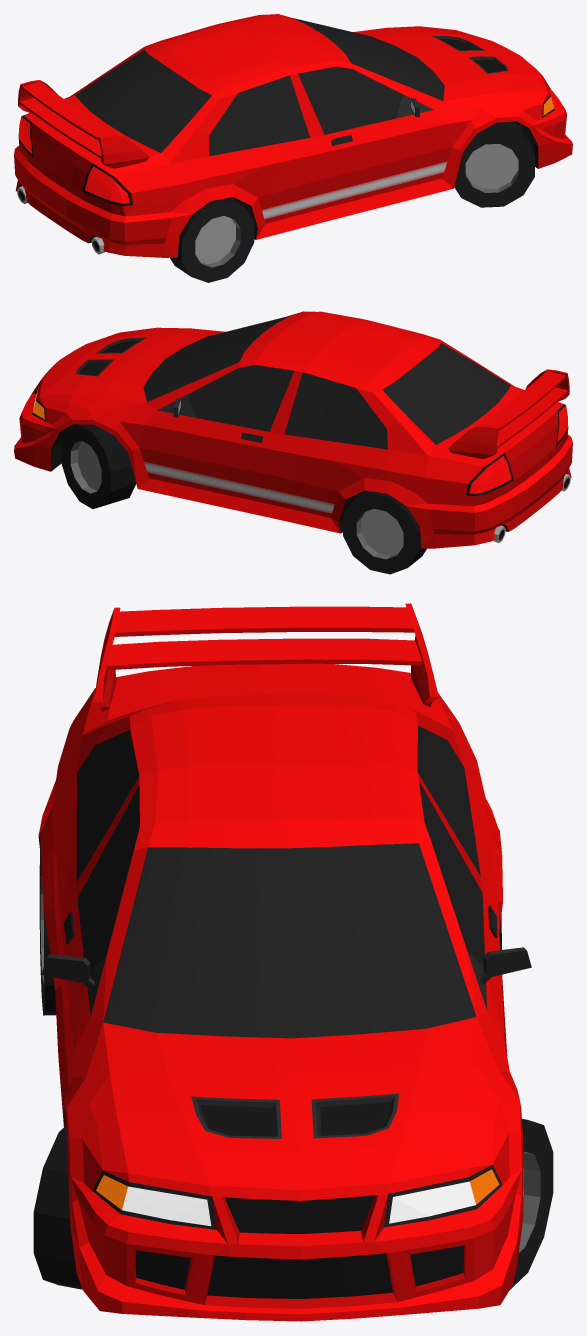
File: Car_106.glb
3 renders of one model, top to bottom at view 1: azimuth 30°, elevation 25°; view 2: azimuth 150°, elevation 25°; view 3: azimuth 270°, elevation 25°, orthographic. The views are drawn at different scales.
Visible parts, largest first — view 1: Car_106, wheel_1_Car_106_Wheel_1R, wheel_2_Car_106_Wheel_2R; view 2: Car_106, wheel_3_Car_106_Wheel_3L, wheel_0_Car_106_Wheel_1L; view 3: Car_106, wheel_1_Car_106_Wheel_1R, wheel_0_Car_106_Wheel_1L, wheel_2_Car_106_Wheel_2R.
Part boxes in pixels (box(x1,y1,x2,y2)): Car_106: box(14, 14, 572, 257); wheel_1_Car_106_Wheel_1R: box(454, 121, 534, 207); wheel_2_Car_106_Wheel_2R: box(170, 197, 254, 282); Car_106: box(14, 311, 572, 548); wheel_3_Car_106_Wheel_3L: box(343, 490, 426, 574); wheel_0_Car_106_Wheel_1L: box(61, 424, 136, 508); Car_106: box(38, 603, 531, 1321); wheel_1_Car_106_Wheel_1R: box(33, 1126, 82, 1289); wheel_0_Car_106_Wheel_1L: box(510, 1119, 553, 1289); wheel_2_Car_106_Wheel_2R: box(39, 847, 56, 1015).
Bounding box in the file's own units: 4.71 × 1.54 × 2.17.
3 materials, 3 textured.
